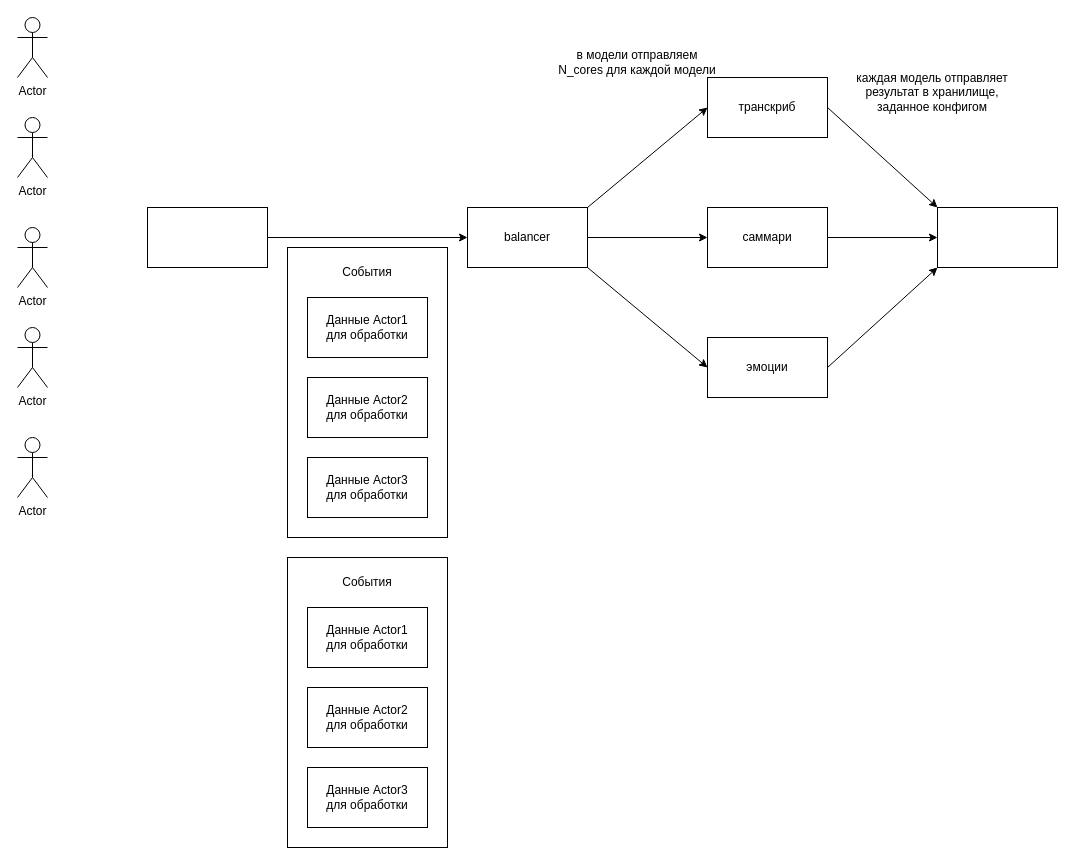
Image size: 1075x865. Some labels were removed from this diagram. Each missing label, with the box of its shape:
Система сбора событий: (146, 206, 268, 268)
хранилище: (936, 206, 1058, 268)
